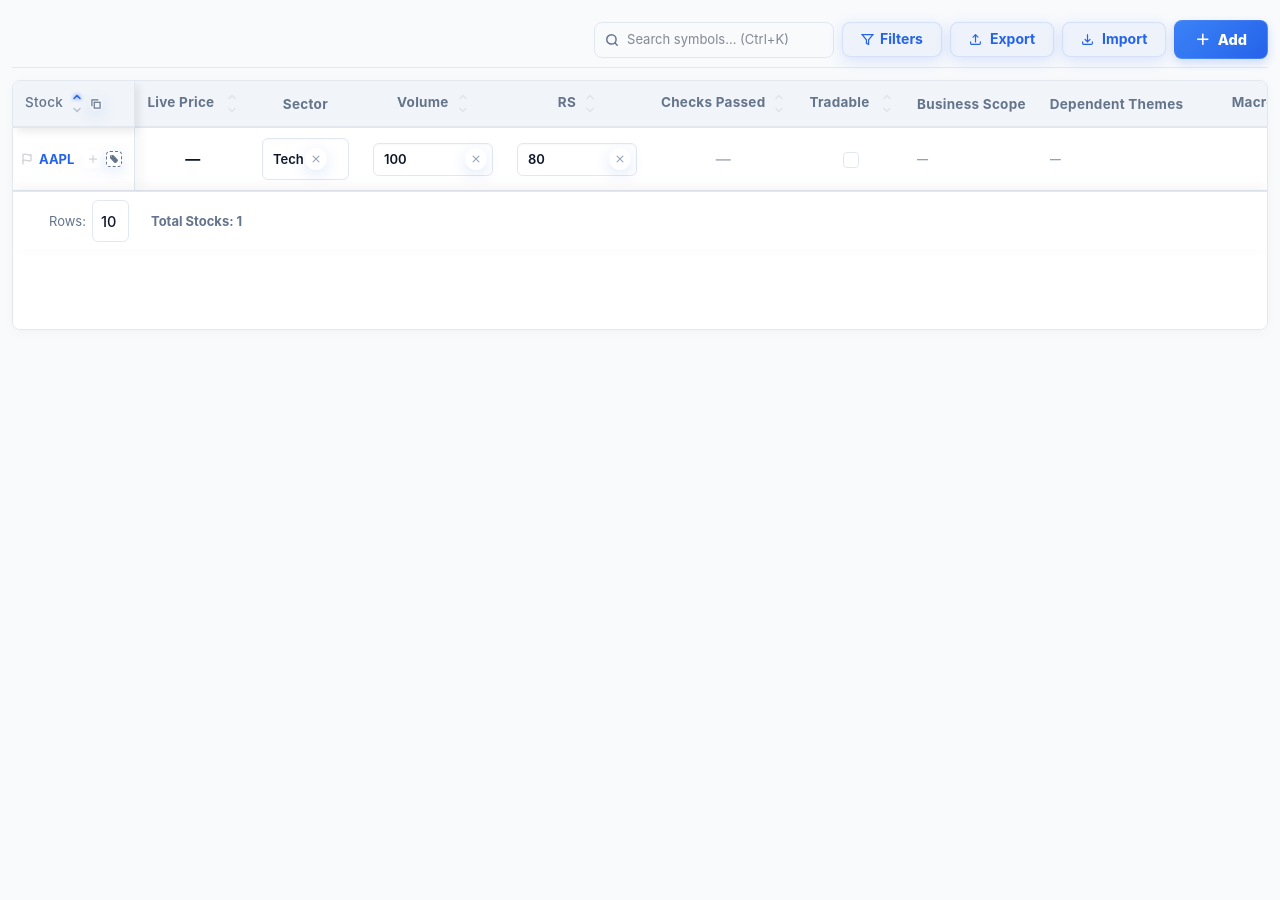
Scenario: StockGrid › filters sector dropdown based on country scope
Toggle filters
Click the button titled "Open Watchlist Filters" at [892, 40], box [842, 22, 942, 57]
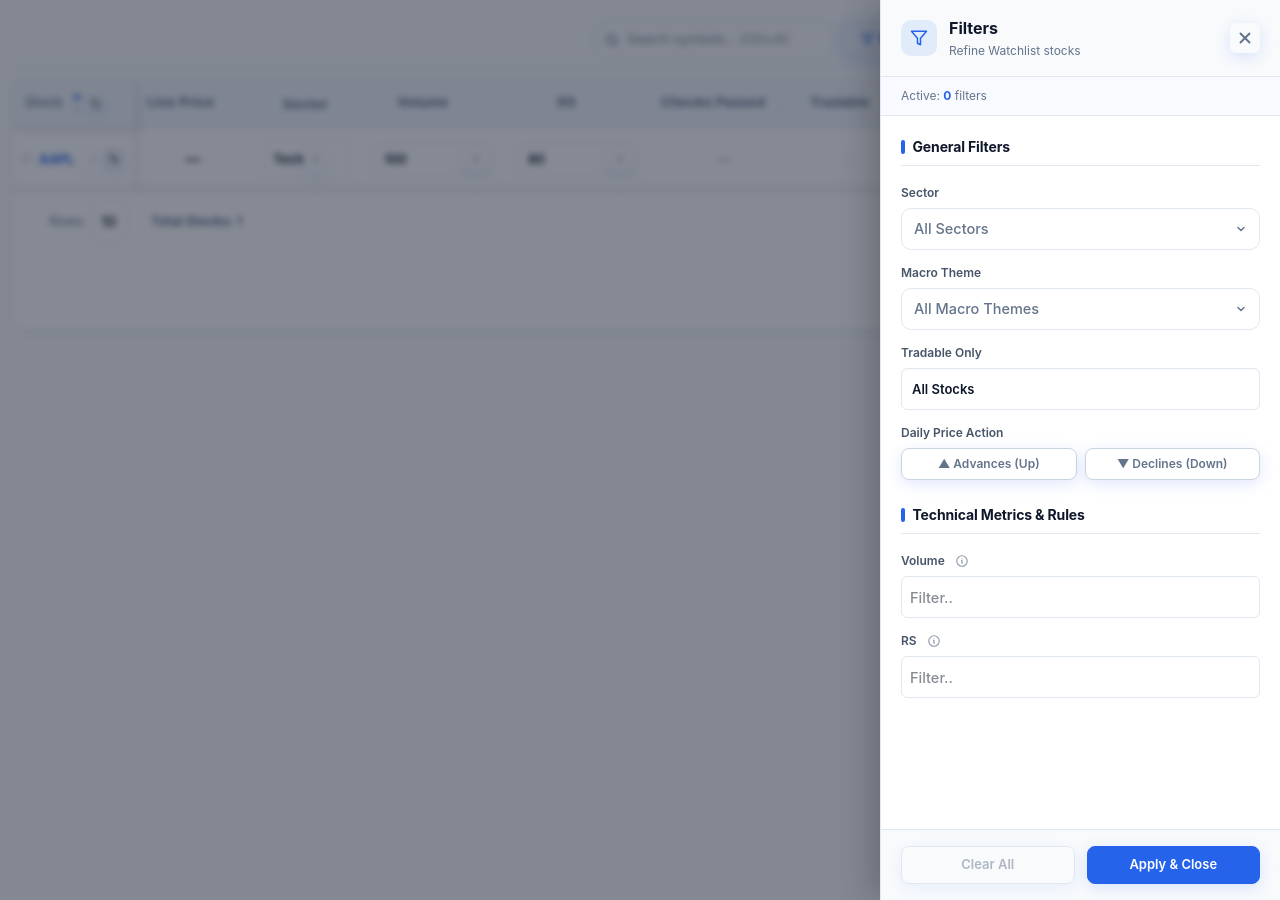
Click the button labelled "All Sectors" at [951, 229], box [901, 208, 1260, 250]
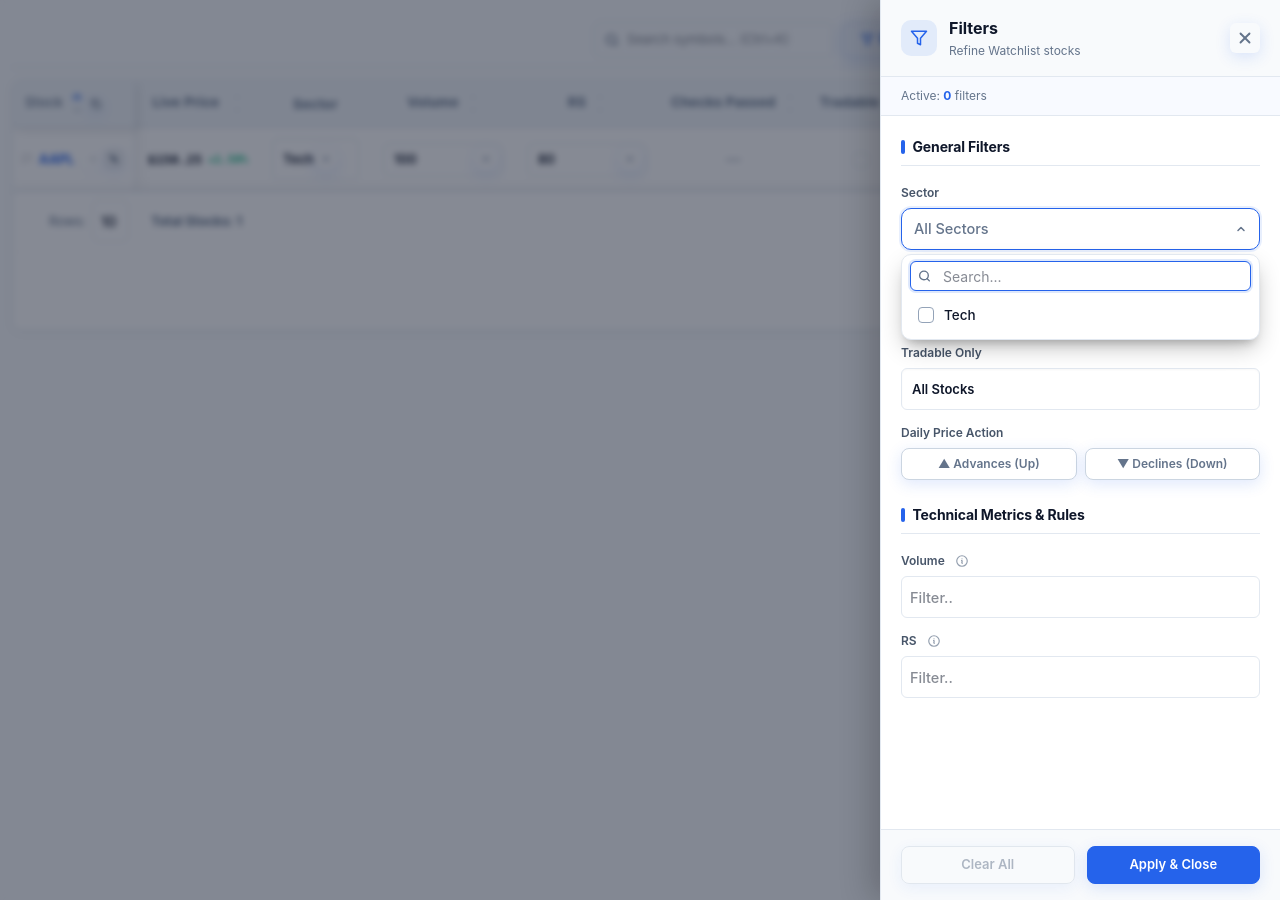
Now the text "Tech" is shown, box [944, 305, 976, 325]
